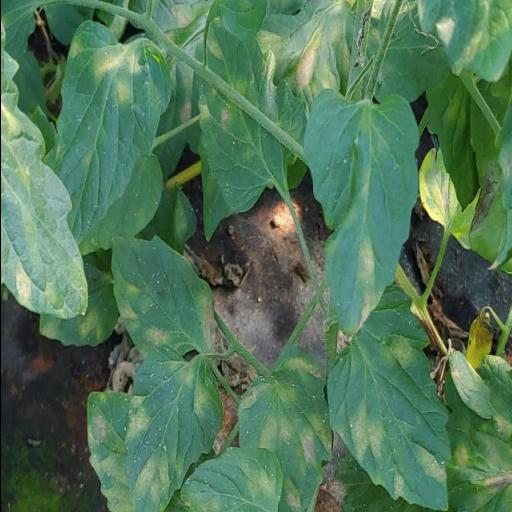disease_tomato: (325, 280, 451, 512), (303, 88, 420, 337), (52, 19, 172, 245), (123, 342, 223, 512), (236, 349, 330, 512), (110, 236, 215, 356), (180, 445, 283, 512)
